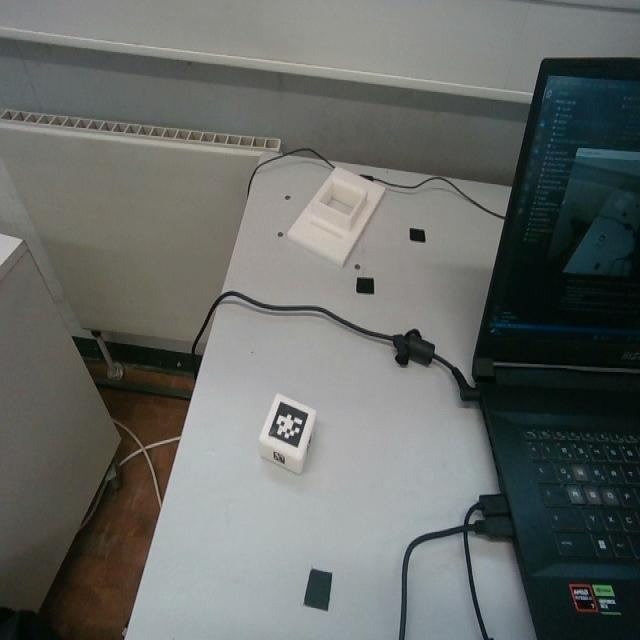Cube: (257, 392, 318, 476)
